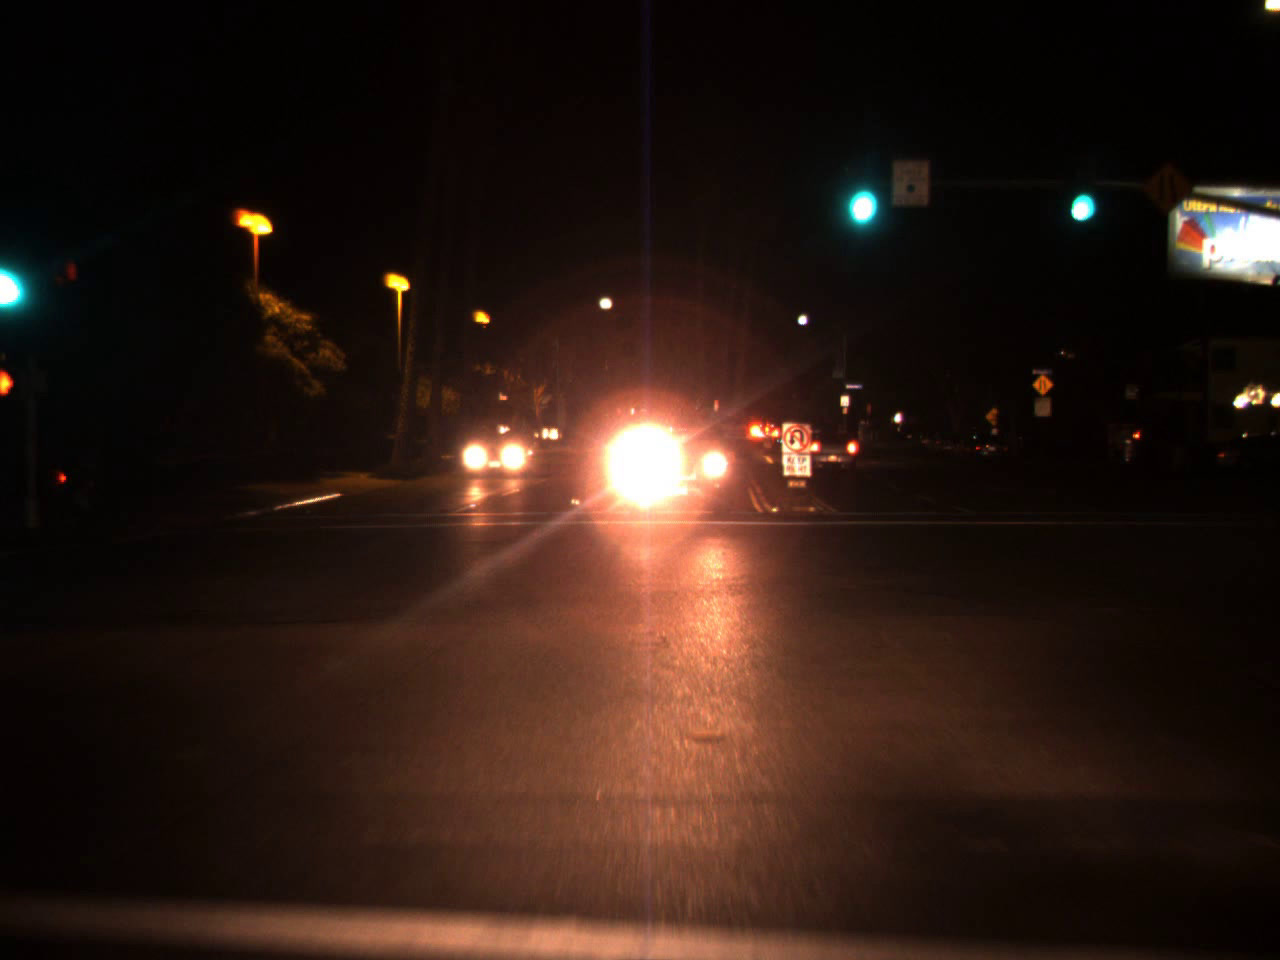go: (840, 149, 881, 236), (0, 229, 25, 319), (1064, 170, 1094, 230)
